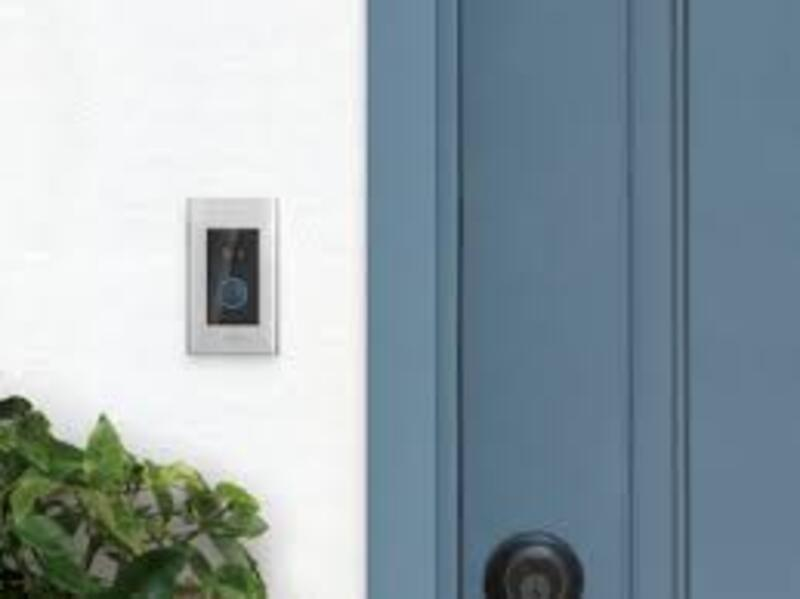doorbell: (175, 182, 292, 358)
